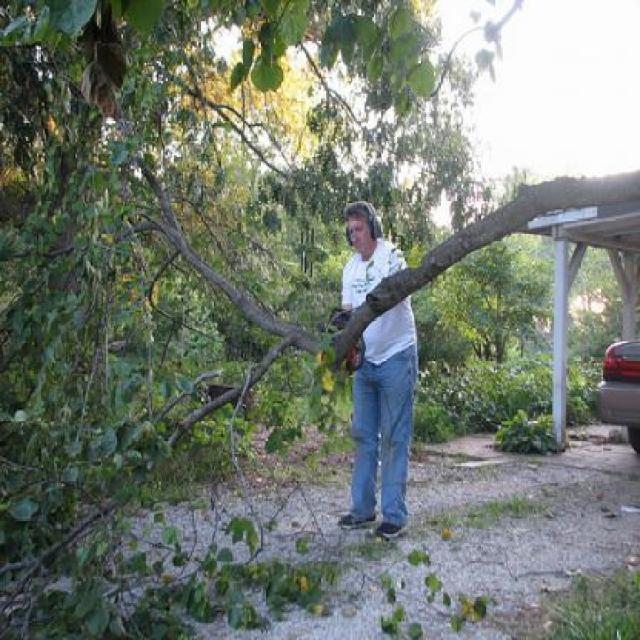Chainsaw: (313, 302, 365, 392)
